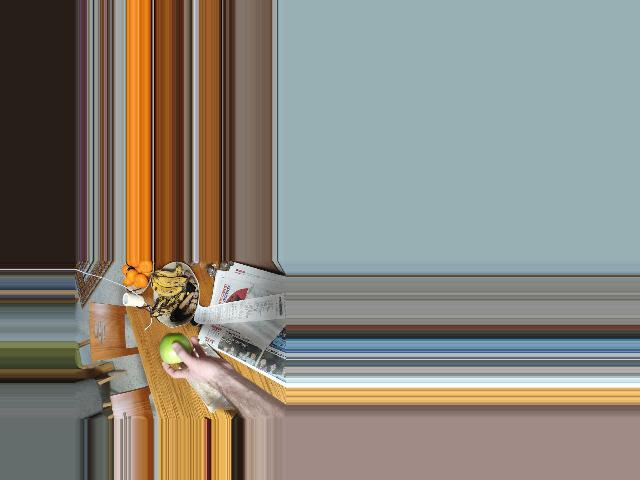apple: (160, 332, 192, 363)
